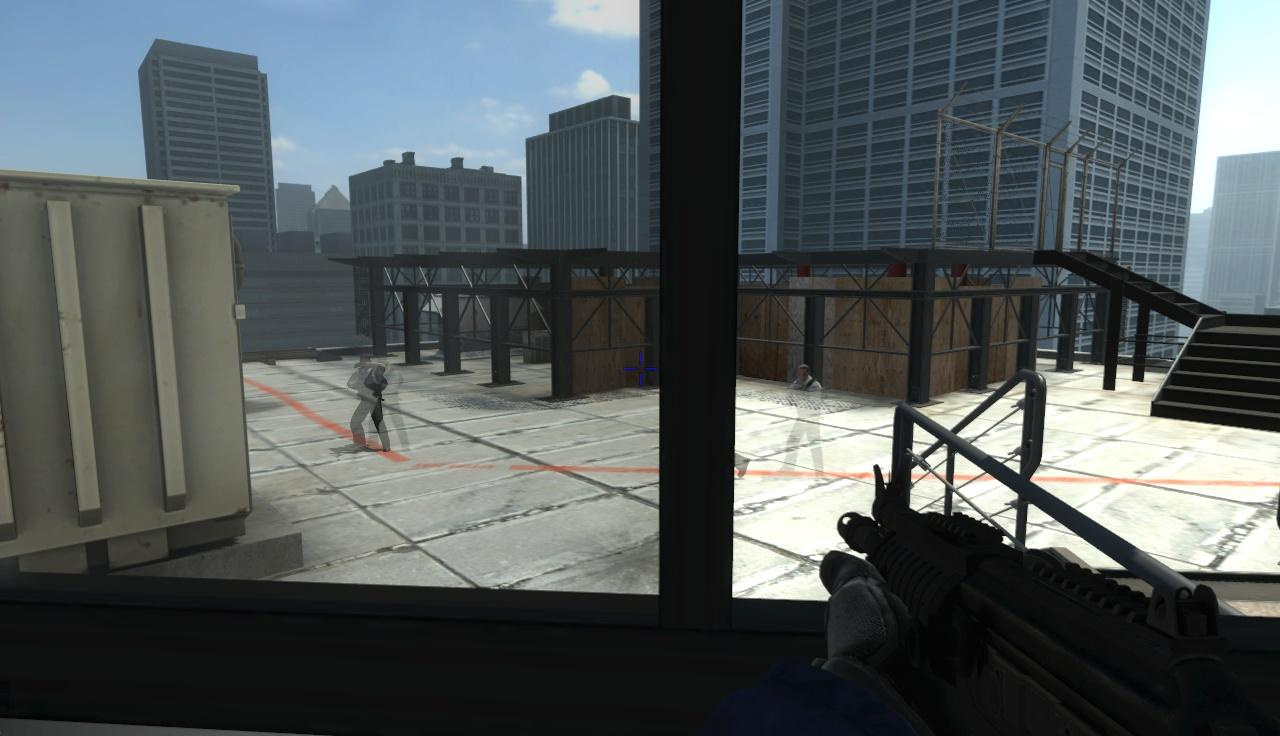rifle: (836, 467, 1280, 736)
tt: (347, 356, 388, 452)
tthead: (359, 356, 372, 371)
